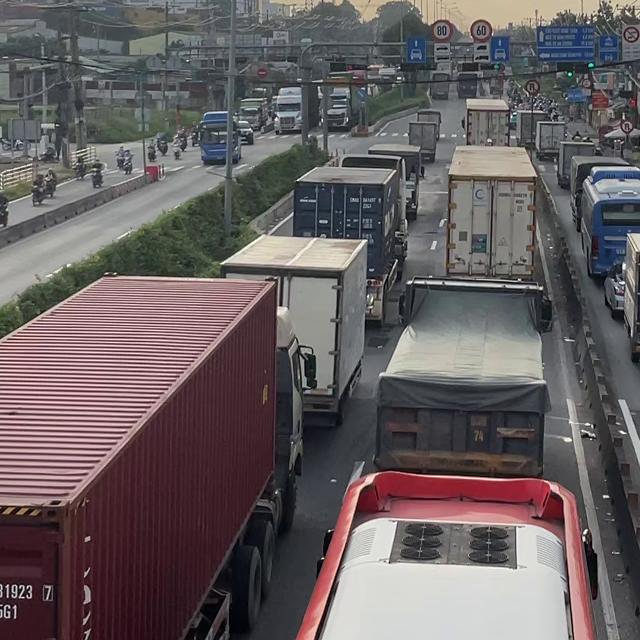bus: (294, 460, 599, 639), (576, 166, 639, 278), (198, 111, 241, 164)
car: (603, 259, 625, 317), (235, 120, 254, 144)
motorcycle: (0, 193, 9, 228), (31, 184, 44, 206), (90, 167, 103, 188), (43, 178, 55, 197), (123, 156, 132, 174)
truck: (0, 271, 307, 639), (372, 274, 552, 478), (218, 232, 367, 427), (291, 156, 407, 325), (444, 144, 538, 279), (568, 155, 631, 230), (367, 143, 424, 220), (462, 97, 510, 146), (273, 85, 320, 134), (622, 230, 639, 363), (555, 138, 595, 188), (534, 120, 566, 160), (515, 109, 548, 146), (408, 121, 437, 162), (237, 97, 269, 131), (416, 109, 441, 139), (428, 71, 450, 99), (457, 72, 479, 99)
